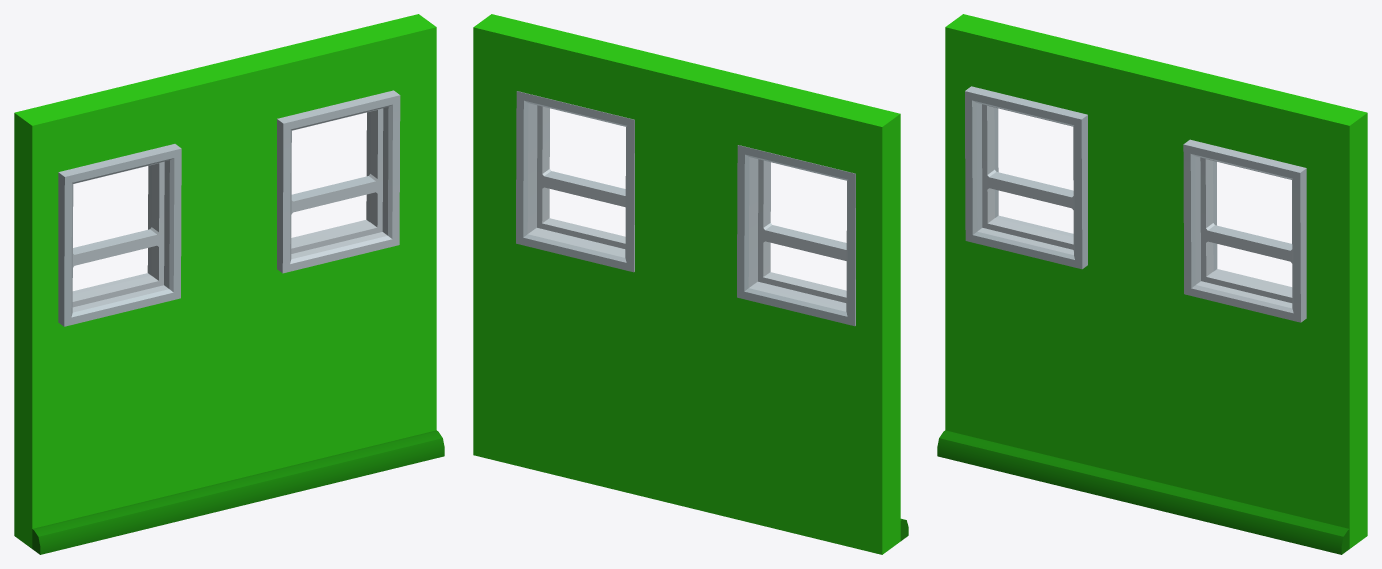
Rendered from G_Wall003.fbx.
3 views of the same model, side by side, from view 1: azimuth 30°, elevation 25°; view 2: azimuth 150°, elevation 25°; view 3: azimuth 330°, elevation 25° (orthographic).
Visible parts, largest first — view 1: Wall003.002; view 2: Wall003.002; view 3: Wall003.002.
Boxes of the visible parts, left/top/right/bottom form: Wall003.002: left=14, top=14, right=444, bottom=554; Wall003.002: left=473, top=14, right=908, bottom=554; Wall003.002: left=937, top=14, right=1367, bottom=554.
Size of the model in its own units: 250 by 250 by 28.88.
Materials: 1 (1 with a texture image).
